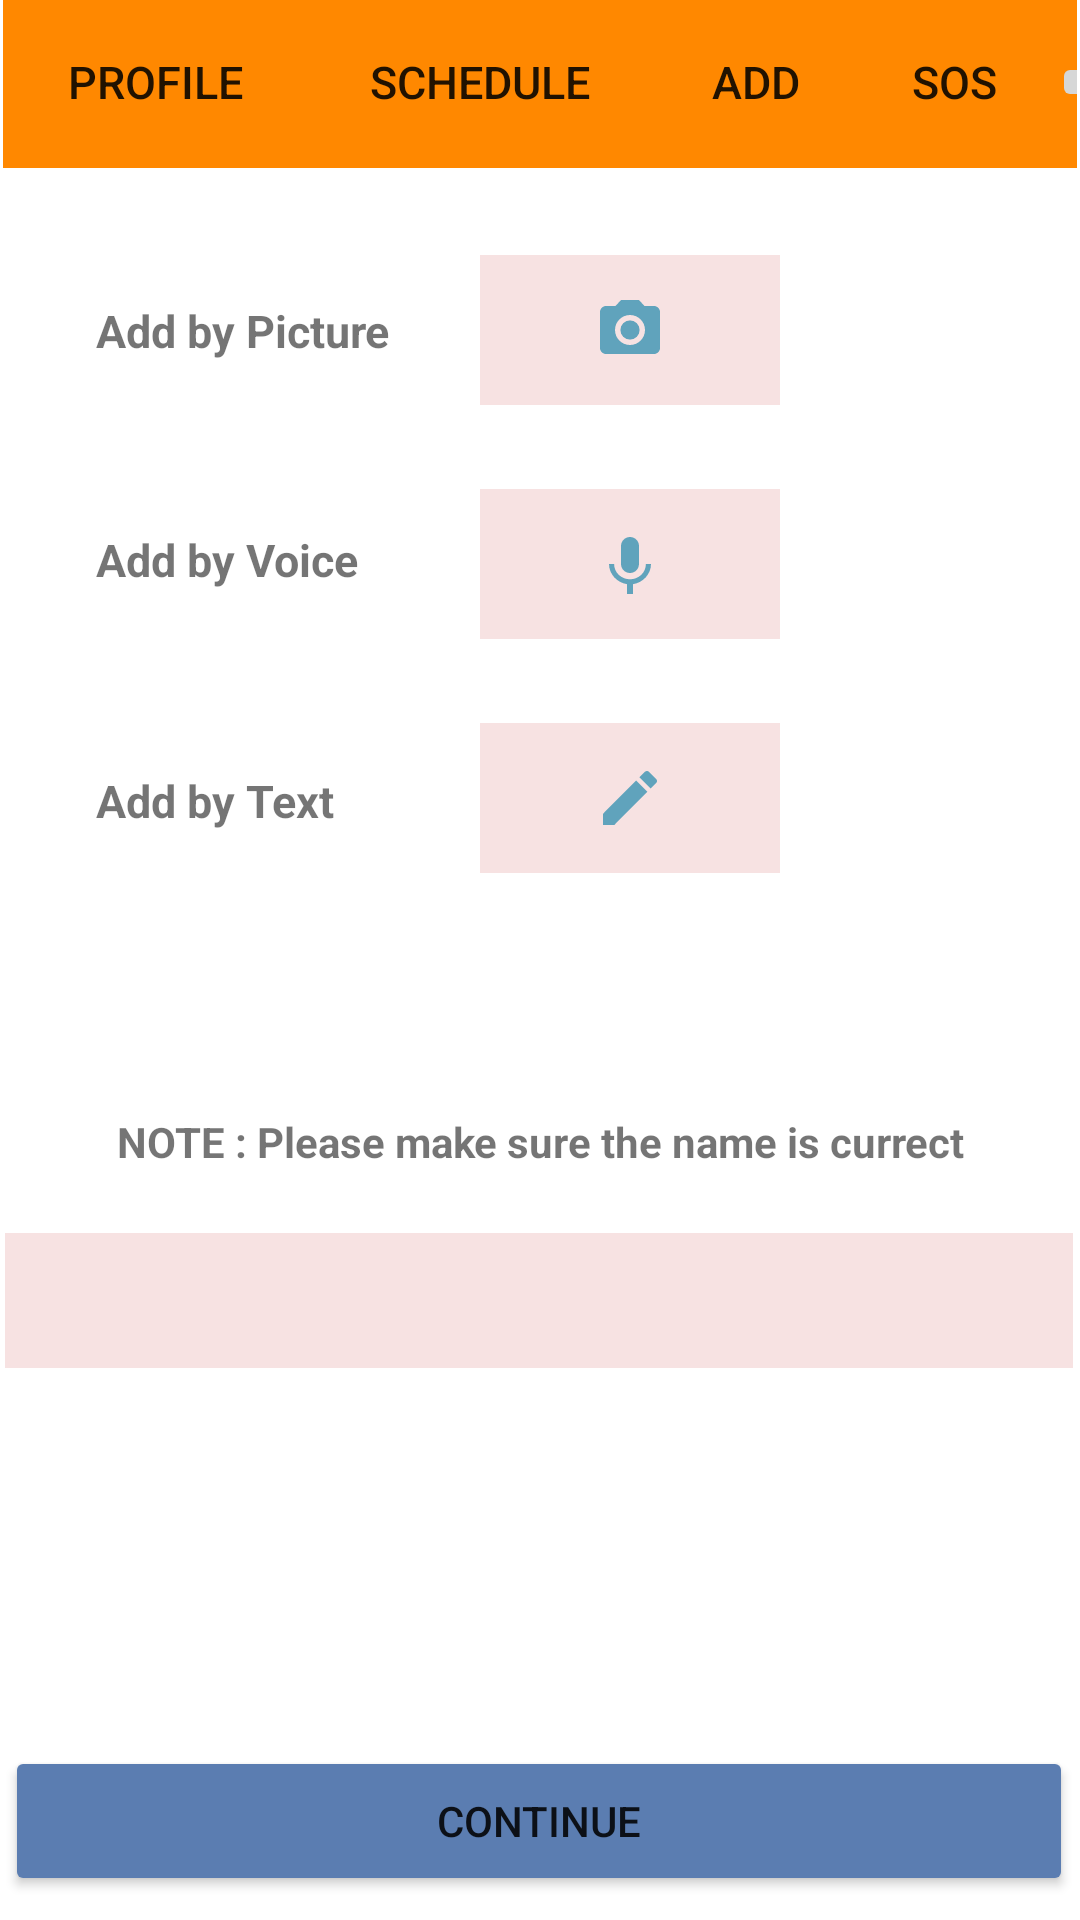

Named icons in this screenshot (1080 × 1920) and their centers, (x=x, y=y):
camera: (x=630, y=330)
